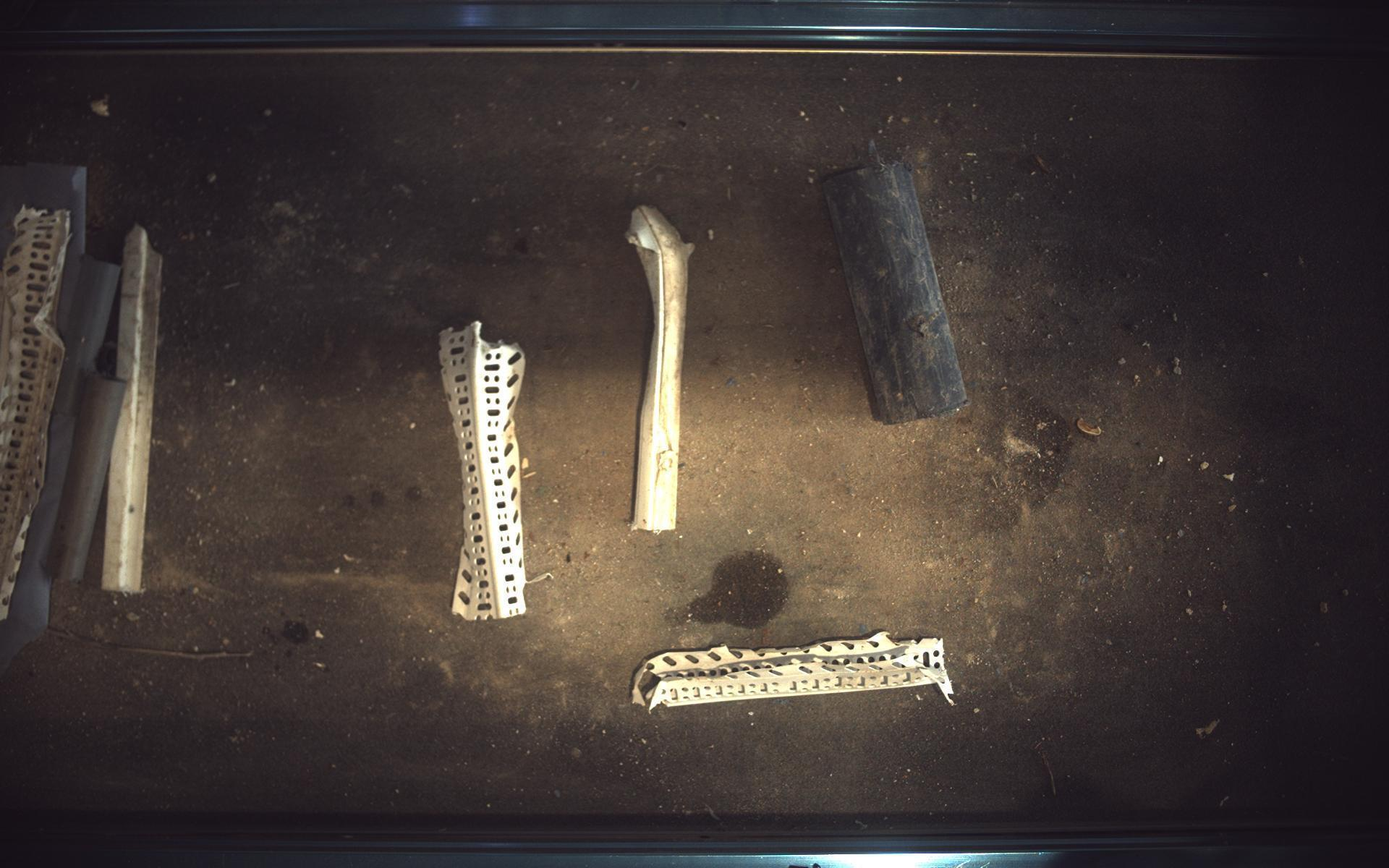pipes: (824, 161, 969, 424)
plastic: (440, 321, 527, 621), (632, 633, 956, 710), (627, 205, 695, 532)
